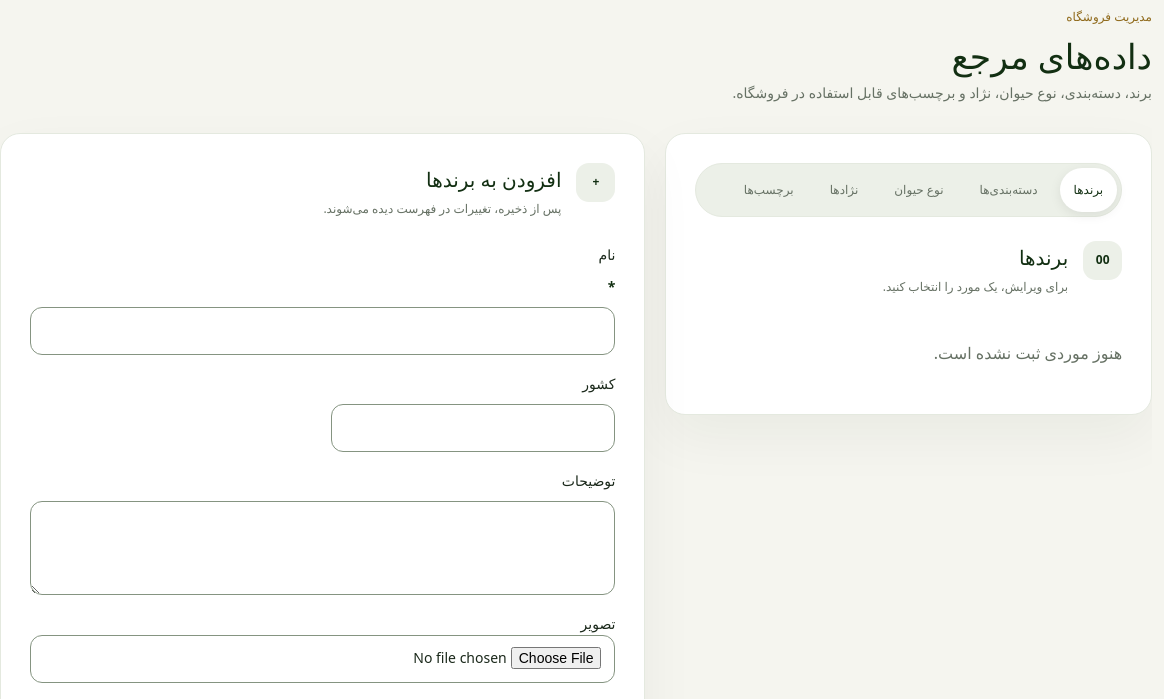
Test: retains the existing دسته‌بندی‌ها creation contract
Step 1. Click the button "دسته‌بندی‌ها" → (1009, 190), box [966, 168, 1052, 212]
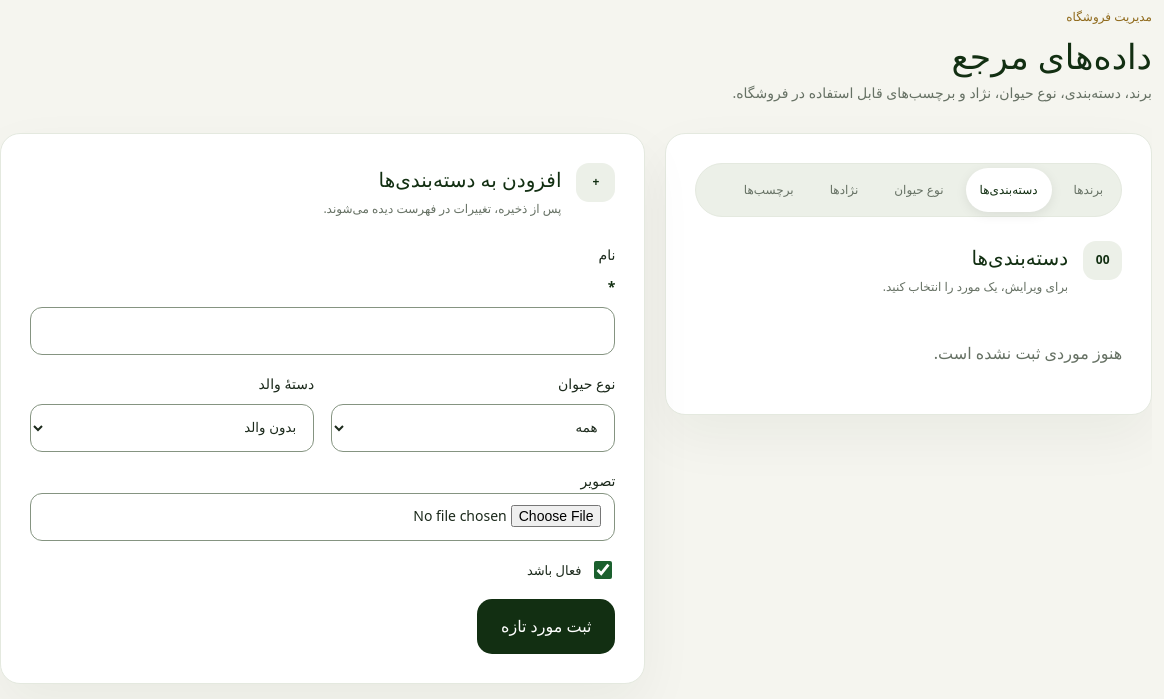
Step 2. Type "مرجع تازه" into the field labelled "نام *" → (323, 331), box [30, 307, 616, 355]
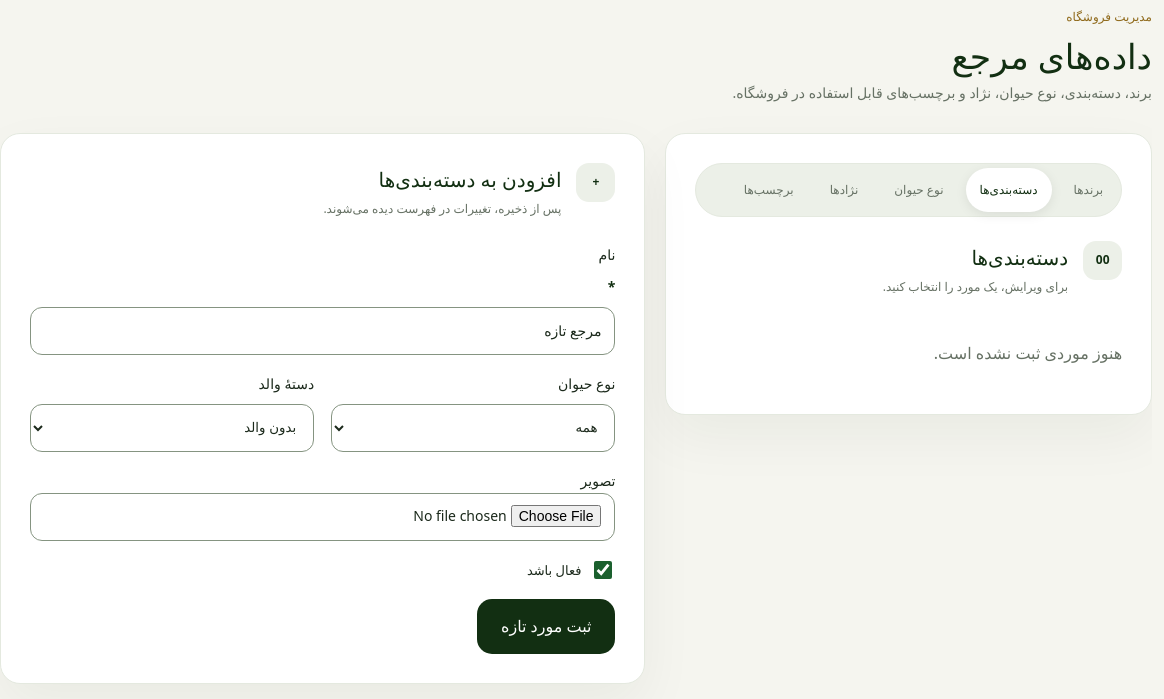
Step 3. Click the button "ثبت مورد تازه" → (546, 626), box [477, 599, 615, 654]
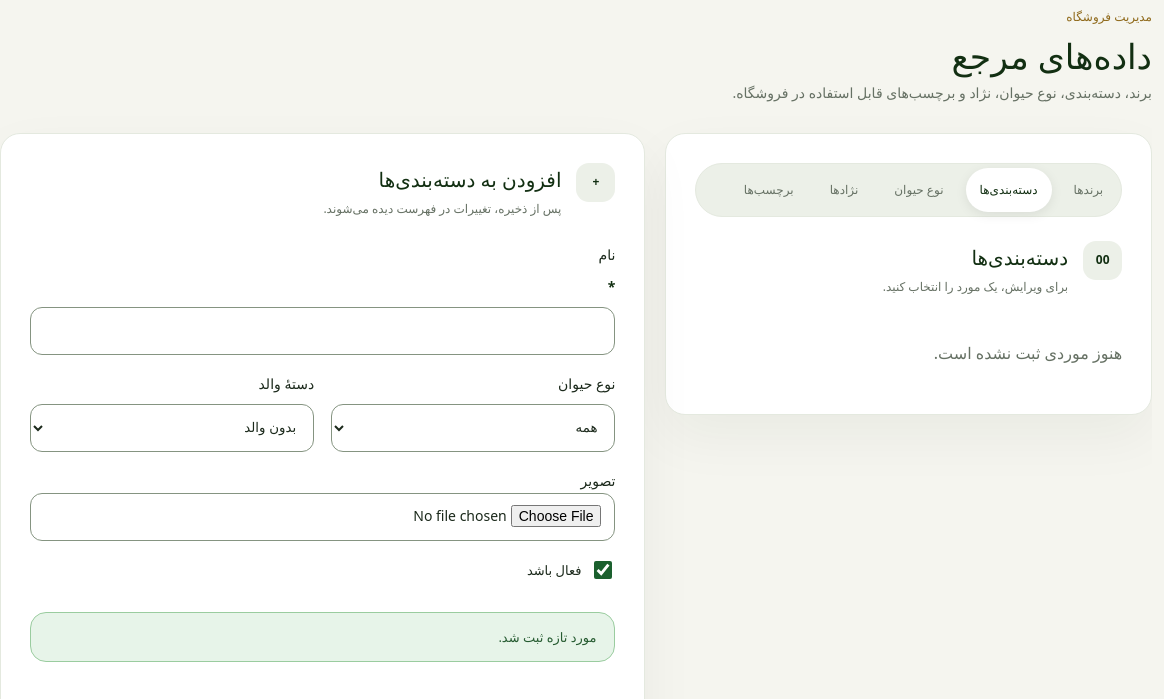
Now the text "مورد تازه ثبت شد." is shown, box [30, 612, 616, 662]
